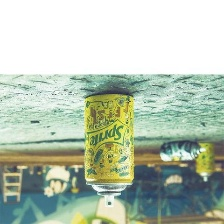aerosol_cans: (82, 89, 136, 209)
